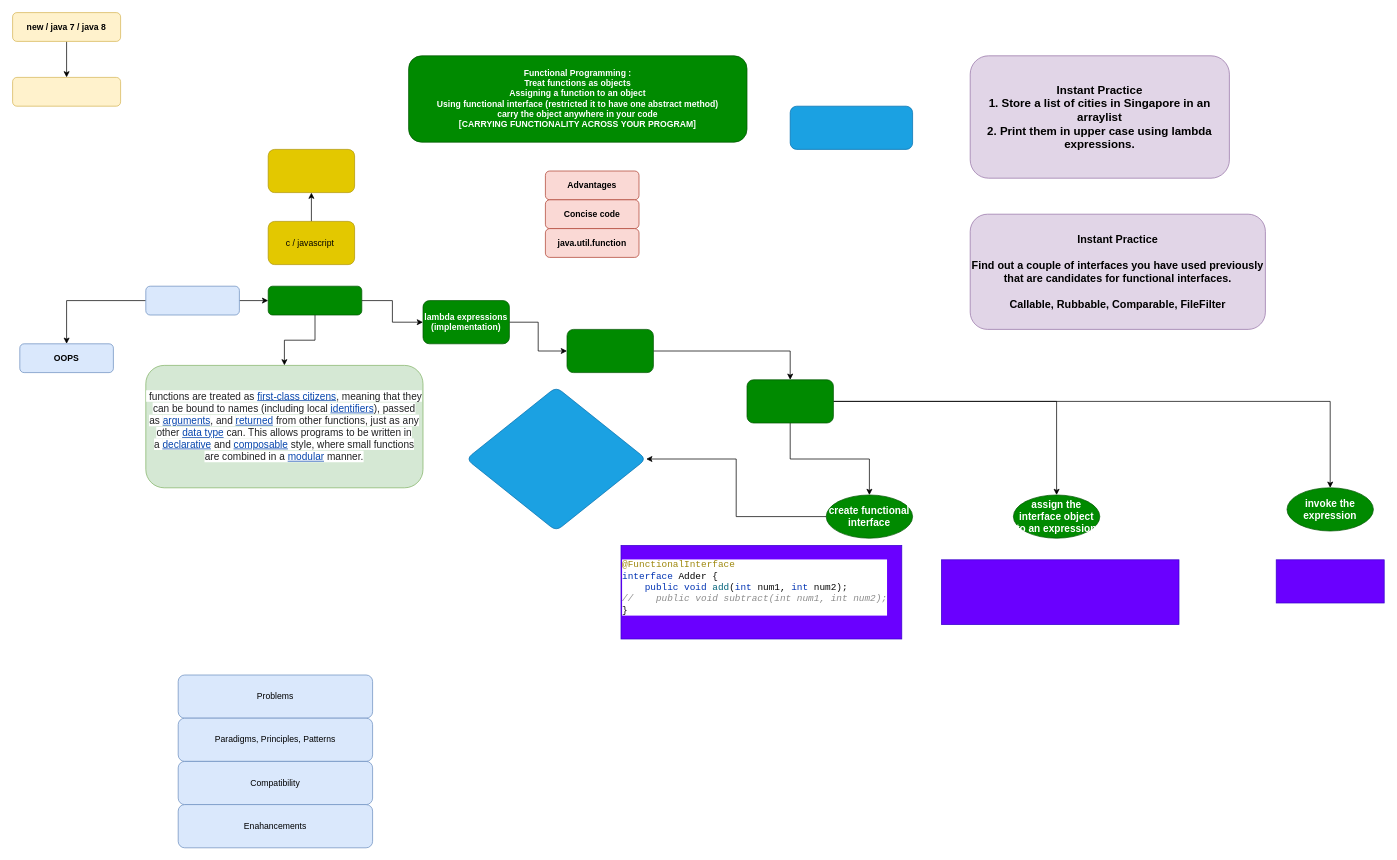
Some shapes in this 1397 by 860 pixel diagram are drawn without their labels. Each missing label, with the centre of its shape:
"adder .add( 5 , 10 );" goes at (1329,581).
"Adder adder = ( int num1, int num2) -> { System . out .println(num1 + num2); };" goes at (1060,592).
"Exploring the docs" goes at (609,351).
"Functional Programming (concept)" goes at (314,300).
"functions" goes at (311,171).
"individual questions" goes at (66,91).
"Java 8" goes at (192,300).
"java.util.function (utilities ready made for you)" goes at (851,127).
"should have one abstract mehod but can have static and default methods" goes at (555,458).
"Writing Custom Functional Interface" goes at (789,401).
